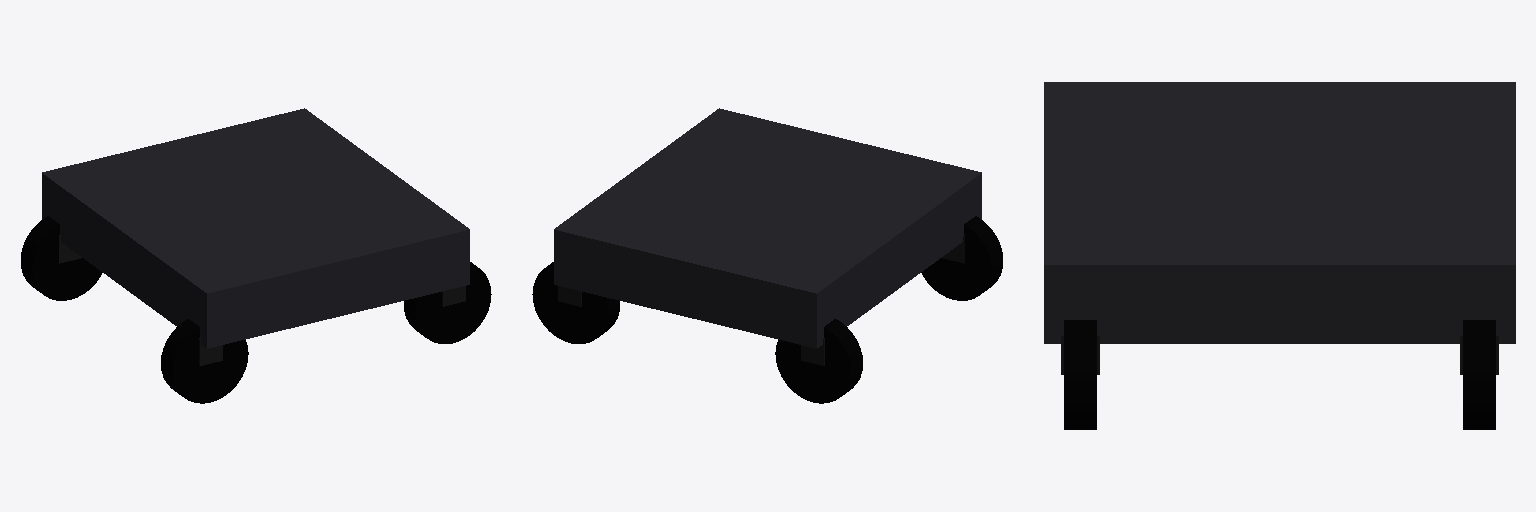
The robot description file, URDF, robot "drives":
<?xml version="1.0"?>
<robot name="drives">
  <link name="base_link">
    <visual>
      <origin xyz="-0.410805 -0.44323 -0.073884" rpy="1.57079632679 0 0"/>
      <geometry>
        <mesh filename="file:///cmr/terra2/src/rover_gazebo/meshes/rover_26.stl" scale="0.001 0.001 0.001"/>
      </geometry>
      <material name="rover_orange_ghost">
        <color rgba="0.92 0.45 0.12 0.55"/>
      </material>
    </visual>

    <visual>
      <origin xyz="0 0 0.29" rpy="0 0 0"/>
      <geometry>
        <box size="0.90 0.98 0.18"/>
      </geometry>
      <material name="chassis_dark">
        <color rgba="0.17 0.17 0.19 1.0"/>
      </material>
    </visual>

    <collision>
      <origin xyz="0 0 0.29" rpy="0 0 0"/>
      <geometry>
        <box size="0.92 1.00 0.20"/>
      </geometry>
    </collision>

    <inertial>
      <origin xyz="0 0 0.29" rpy="0 0 0"/>
      <mass value="45.0"/>
      <inertia ixx="4.0" ixy="0.0" ixz="0.0" iyy="10.0" iyz="0.0" izz="12.0"/>
    </inertial>
  </link>

  <link name="front_left_steer_link">
    <visual>
      <origin xyz="0 0 0.045" rpy="0 0 0"/>
      <geometry>
        <box size="0.08 0.08 0.09"/>
      </geometry>
      <material name="module_dark">
        <color rgba="0.12 0.12 0.12 1.0"/>
      </material>
    </visual>
    <inertial>
      <origin xyz="0 0 0.045" rpy="0 0 0"/>
      <mass value="0.5"/>
      <inertia ixx="0.002" ixy="0.0" ixz="0.0" iyy="0.002" iyz="0.0" izz="0.002"/>
    </inertial>
  </link>
  <joint name="front_left_steer_joint" type="continuous">
    <parent link="base_link"/>
    <child link="front_left_steer_link"/>
    <origin xyz="0.415 0.415 0.13" rpy="0 0 0"/>
    <axis xyz="0 0 1"/>
  </joint>
  <link name="front_left_wheel_link">
    <visual>
      <origin xyz="0 0 0" rpy="1.57079632679 0 0"/>
      <geometry>
        <cylinder radius="0.13" length="0.07"/>
      </geometry>
      <material name="wheel_black">
        <color rgba="0.03 0.03 0.03 1.0"/>
      </material>
    </visual>
    <inertial>
      <origin xyz="0 0 0" rpy="0 0 0"/>
      <mass value="0.6"/>
      <inertia ixx="0.004" ixy="0.0" ixz="0.0" iyy="0.004" iyz="0.0" izz="0.004"/>
    </inertial>
  </link>
  <joint name="front_left_wheel_joint" type="continuous">
    <parent link="front_left_steer_link"/>
    <child link="front_left_wheel_link"/>
    <origin xyz="0 0 0" rpy="0 0 0"/>
    <axis xyz="0 1 0"/>
  </joint>

  <link name="front_right_steer_link">
    <visual>
      <origin xyz="0 0 0.045" rpy="0 0 0"/>
      <geometry>
        <box size="0.08 0.08 0.09"/>
      </geometry>
      <material name="module_dark"/>
    </visual>
    <inertial>
      <origin xyz="0 0 0.045" rpy="0 0 0"/>
      <mass value="0.5"/>
      <inertia ixx="0.002" ixy="0.0" ixz="0.0" iyy="0.002" iyz="0.0" izz="0.002"/>
    </inertial>
  </link>
  <joint name="front_right_steer_joint" type="continuous">
    <parent link="base_link"/>
    <child link="front_right_steer_link"/>
    <origin xyz="0.415 -0.415 0.13" rpy="0 0 0"/>
    <axis xyz="0 0 1"/>
  </joint>
  <link name="front_right_wheel_link">
    <visual>
      <origin xyz="0 0 0" rpy="1.57079632679 0 0"/>
      <geometry>
        <cylinder radius="0.13" length="0.07"/>
      </geometry>
      <material name="wheel_black"/>
    </visual>
    <inertial>
      <origin xyz="0 0 0" rpy="0 0 0"/>
      <mass value="0.6"/>
      <inertia ixx="0.004" ixy="0.0" ixz="0.0" iyy="0.004" iyz="0.0" izz="0.004"/>
    </inertial>
  </link>
  <joint name="front_right_wheel_joint" type="continuous">
    <parent link="front_right_steer_link"/>
    <child link="front_right_wheel_link"/>
    <origin xyz="0 0 0" rpy="0 0 0"/>
    <axis xyz="0 1 0"/>
  </joint>

  <link name="back_left_steer_link">
    <visual>
      <origin xyz="0 0 0.045" rpy="0 0 0"/>
      <geometry>
        <box size="0.08 0.08 0.09"/>
      </geometry>
      <material name="module_dark"/>
    </visual>
    <inertial>
      <origin xyz="0 0 0.045" rpy="0 0 0"/>
      <mass value="0.5"/>
      <inertia ixx="0.002" ixy="0.0" ixz="0.0" iyy="0.002" iyz="0.0" izz="0.002"/>
    </inertial>
  </link>
  <joint name="back_left_steer_joint" type="continuous">
    <parent link="base_link"/>
    <child link="back_left_steer_link"/>
    <origin xyz="-0.415 0.415 0.13" rpy="0 0 0"/>
    <axis xyz="0 0 1"/>
  </joint>
  <link name="back_left_wheel_link">
    <visual>
      <origin xyz="0 0 0" rpy="1.57079632679 0 0"/>
      <geometry>
        <cylinder radius="0.13" length="0.07"/>
      </geometry>
      <material name="wheel_black"/>
    </visual>
    <inertial>
      <origin xyz="0 0 0" rpy="0 0 0"/>
      <mass value="0.6"/>
      <inertia ixx="0.004" ixy="0.0" ixz="0.0" iyy="0.004" iyz="0.0" izz="0.004"/>
    </inertial>
  </link>
  <joint name="back_left_wheel_joint" type="continuous">
    <parent link="back_left_steer_link"/>
    <child link="back_left_wheel_link"/>
    <origin xyz="0 0 0" rpy="0 0 0"/>
    <axis xyz="0 1 0"/>
  </joint>

  <link name="back_right_steer_link">
    <visual>
      <origin xyz="0 0 0.045" rpy="0 0 0"/>
      <geometry>
        <box size="0.08 0.08 0.09"/>
      </geometry>
      <material name="module_dark"/>
    </visual>
    <inertial>
      <origin xyz="0 0 0.045" rpy="0 0 0"/>
      <mass value="0.5"/>
      <inertia ixx="0.002" ixy="0.0" ixz="0.0" iyy="0.002" iyz="0.0" izz="0.002"/>
    </inertial>
  </link>
  <joint name="back_right_steer_joint" type="continuous">
    <parent link="base_link"/>
    <child link="back_right_steer_link"/>
    <origin xyz="-0.415 -0.415 0.13" rpy="0 0 0"/>
    <axis xyz="0 0 1"/>
  </joint>
  <link name="back_right_wheel_link">
    <visual>
      <origin xyz="0 0 0" rpy="1.57079632679 0 0"/>
      <geometry>
        <cylinder radius="0.13" length="0.07"/>
      </geometry>
      <material name="wheel_black"/>
    </visual>
    <inertial>
      <origin xyz="0 0 0" rpy="0 0 0"/>
      <mass value="0.6"/>
      <inertia ixx="0.004" ixy="0.0" ixz="0.0" iyy="0.004" iyz="0.0" izz="0.004"/>
    </inertial>
  </link>
  <joint name="back_right_wheel_joint" type="continuous">
    <parent link="back_right_steer_link"/>
    <child link="back_right_wheel_link"/>
    <origin xyz="0 0 0" rpy="0 0 0"/>
    <axis xyz="0 1 0"/>
  </joint>

  <gazebo>
    <plugin filename="libgazebo_ros_planar_move.so" name="drives_planar_move">
      <ros>
        <namespace>/drives</namespace>
        <remapping>cmd_vel:=cmd_vel</remapping>
        <remapping>odom:=odom</remapping>
      </ros>
      <update_rate>100</update_rate>
      <publish_rate>30</publish_rate>
      <publish_odom>true</publish_odom>
      <publish_odom_tf>false</publish_odom_tf>
      <odometry_frame>odom</odometry_frame>
      <robot_base_frame>base_link</robot_base_frame>
    </plugin>

    <plugin name="gazebo_ros_joint_pose_trajectory" filename="libgazebo_ros_joint_pose_trajectory.so">
      <ros>
        <namespace>/drives</namespace>
        <remapping>set_joint_trajectory:=joint_trajectory_cmd</remapping>
      </ros>
      <update_rate>60</update_rate>
    </plugin>

    <plugin name="gazebo_ros_joint_state_publisher" filename="libgazebo_ros_joint_state_publisher.so">
      <ros>
        <namespace>/drives</namespace>
        <remapping>joint_states:=joint_states</remapping>
      </ros>
      <update_rate>30</update_rate>
      <joint_name>front_left_steer_joint</joint_name>
      <joint_name>front_right_steer_joint</joint_name>
      <joint_name>back_left_steer_joint</joint_name>
      <joint_name>back_right_steer_joint</joint_name>
      <joint_name>front_left_wheel_joint</joint_name>
      <joint_name>front_right_wheel_joint</joint_name>
      <joint_name>back_left_wheel_joint</joint_name>
      <joint_name>back_right_wheel_joint</joint_name>
    </plugin>
  </gazebo>

  <gazebo reference="base_link">
    <sensor name="camera1" type="camera">
      <update_rate>30.0</update_rate>
      <camera name="head_camera">
        <horizontal_fov>1.3962634</horizontal_fov>
        <image>
          <width>800</width>
          <height>800</height>
          <format>R8G8B8</format>
        </image>
        <clip>
          <near>0.02</near>
          <far>50.0</far>
        </clip>
      </camera>
      <always_on>1</always_on>
      <visualize>true</visualize>
      <plugin filename="libgazebo_ros_camera.so" name="camera_controller">
        <camera_name>camera1</camera_name>
        <frame_name>base_link</frame_name>
      </plugin>
      <pose>0 0 1.05 0 0 0</pose>
    </sensor>
  </gazebo>
</robot>

--- Render facts (derived) ---
The picture shows the robot from 3 angles, left to right: view 1: azimuth 30°, elevation 25°; view 2: azimuth 150°, elevation 25°; view 3: azimuth 270°, elevation 25°; orthographic projection.
Robot: drives — 9 links, 8 joints (8 continuous); root link base_link; default pose: all joints at 0.
Links seen in each view (by area): view 1: base_link, back_right_wheel_link, back_left_wheel_link, front_right_wheel_link; view 2: base_link, back_left_wheel_link, back_right_wheel_link, front_left_wheel_link; view 3: base_link, front_left_wheel_link, front_right_wheel_link.
Link boxes in pixels (box(x1,y1,x2,y2)): base_link: box(42, 108, 469, 348); back_right_wheel_link: box(161, 319, 248, 403); back_left_wheel_link: box(21, 216, 102, 300); front_right_wheel_link: box(404, 262, 491, 343); base_link: box(554, 108, 981, 348); back_left_wheel_link: box(775, 319, 862, 403); back_right_wheel_link: box(921, 216, 1002, 300); front_left_wheel_link: box(532, 262, 619, 343); base_link: box(1044, 82, 1515, 343); front_left_wheel_link: box(1463, 320, 1495, 429); front_right_wheel_link: box(1064, 320, 1096, 429).
Bounding box of the posed robot: 1.09 × 0.98 × 0.38 m (x, y, z).
Geometry: only primitive shapes (box / cylinder / sphere) drawn; not drawn: 1 mesh visual (reference in a form the renderer does not follow).
